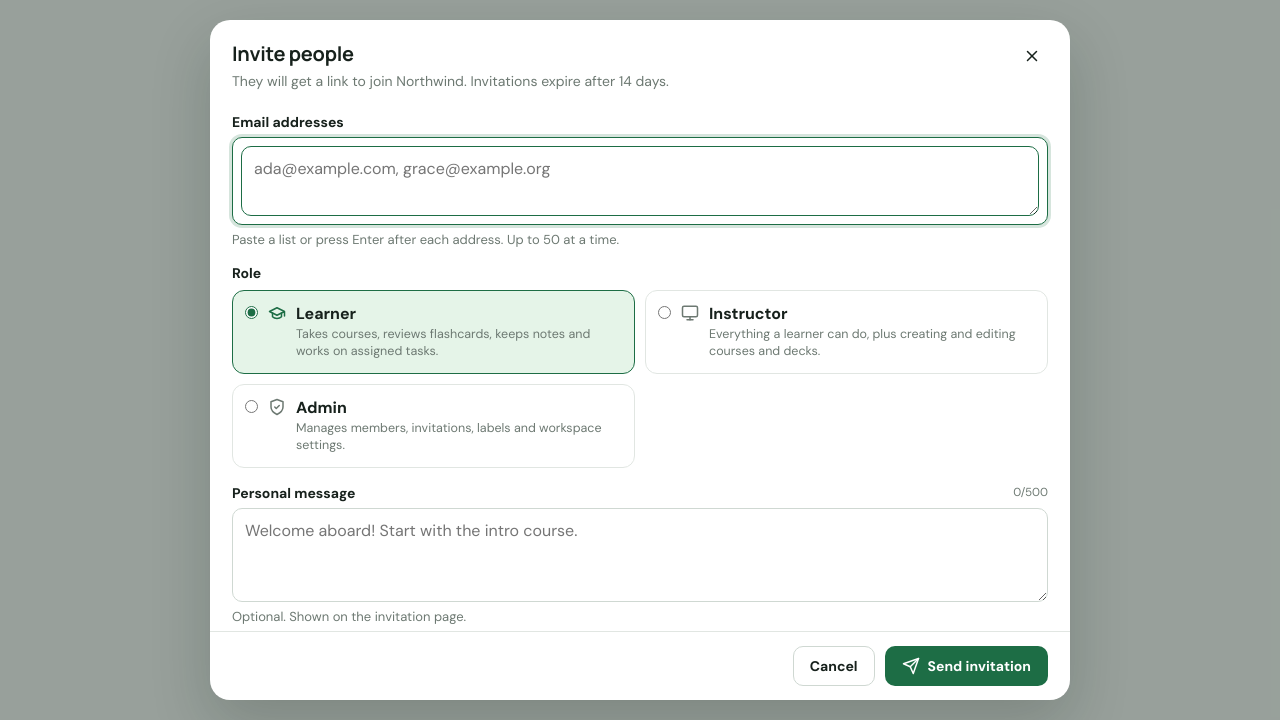
Test case: InviteModal › refuses to send an empty list
The width and height of the screenshot is (1280, 720).
Click the button "Send invitation" at (966, 666), box [885, 646, 1048, 686]
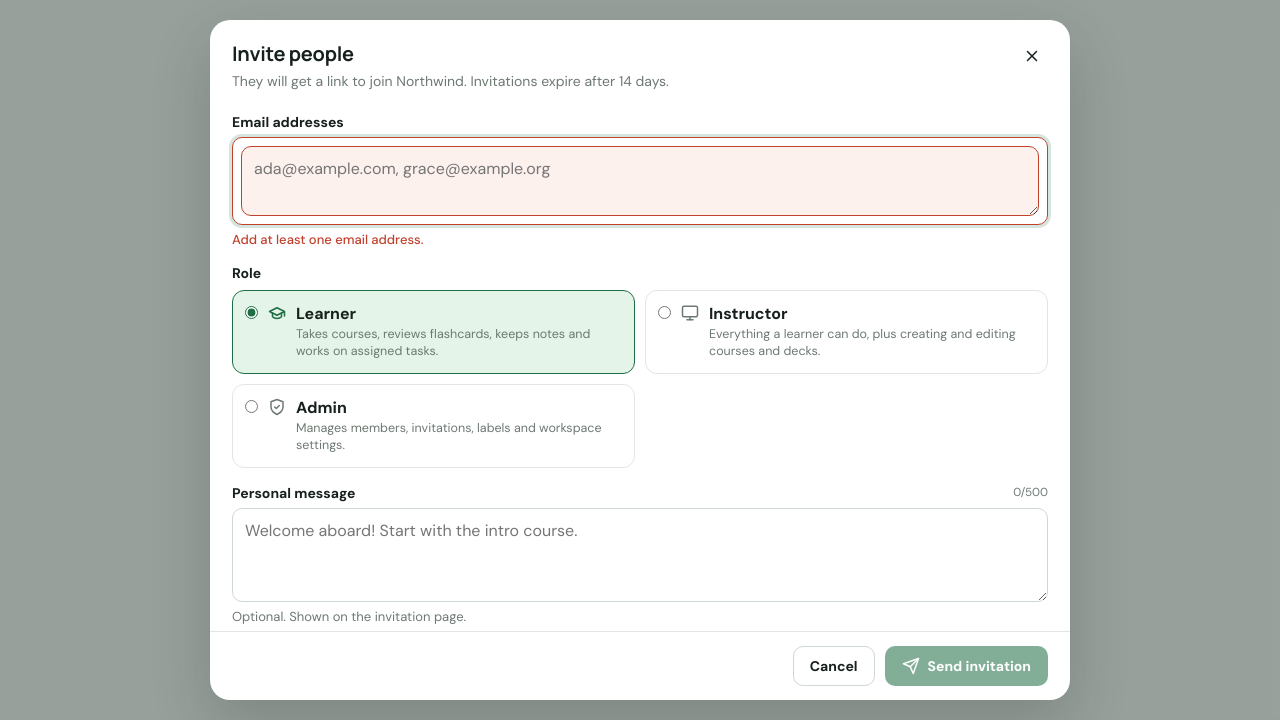
Expected: the text "Add at least one email address." is shown, [232, 231, 424, 248]
